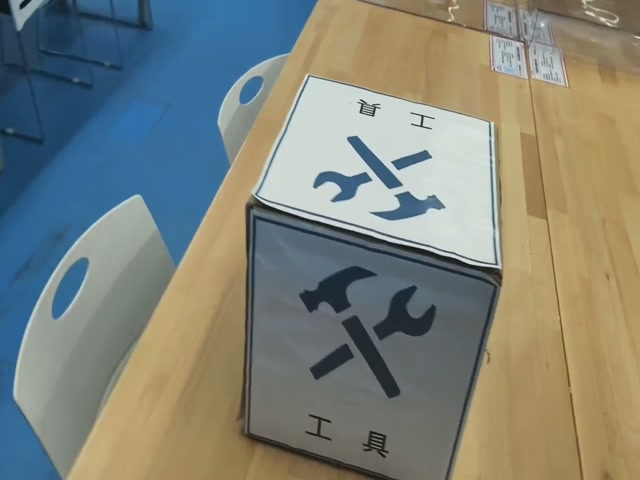Cube_tool: (248, 76, 500, 266)
